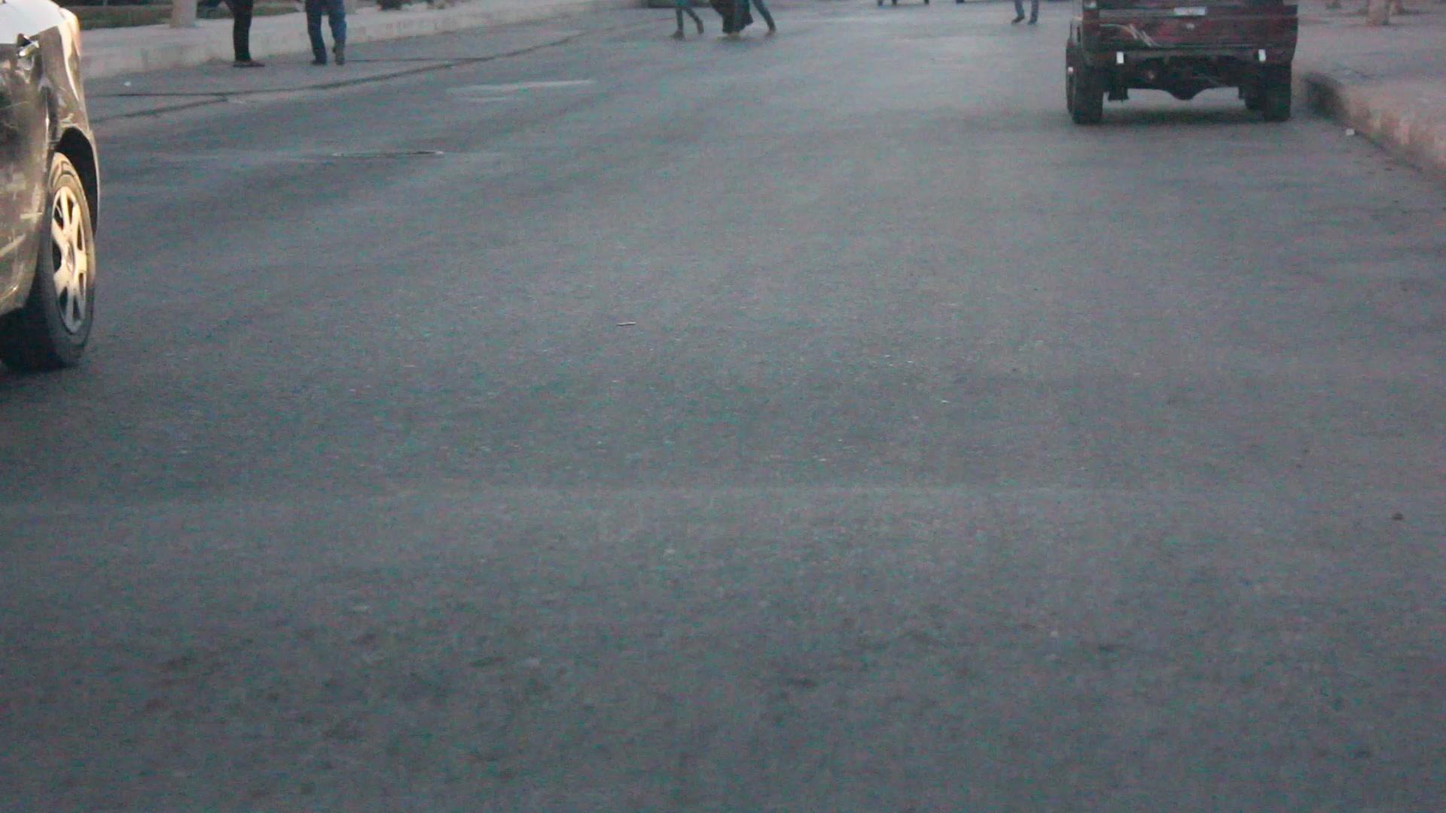Bump: (0, 484, 1445, 813)
